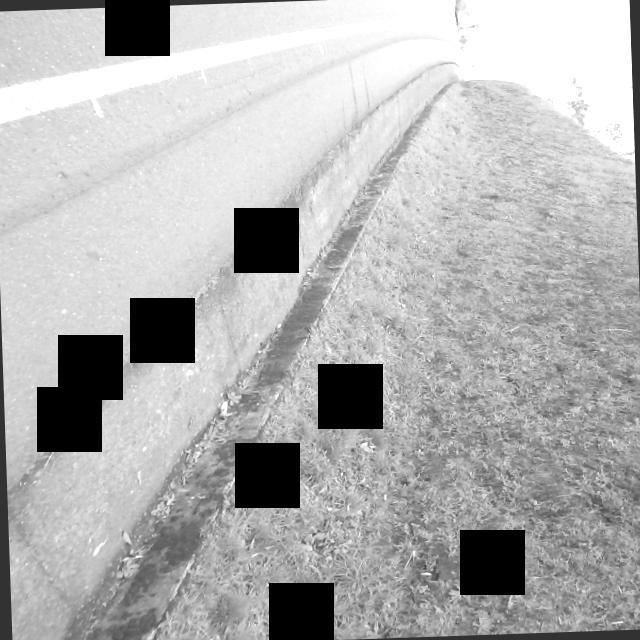DITCH: (0, 0, 506, 640), (0, 57, 485, 640)
